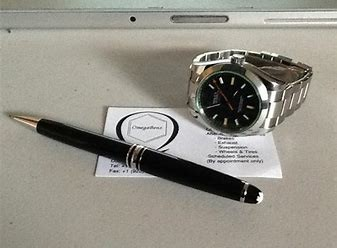pen: (5, 114, 271, 211)
